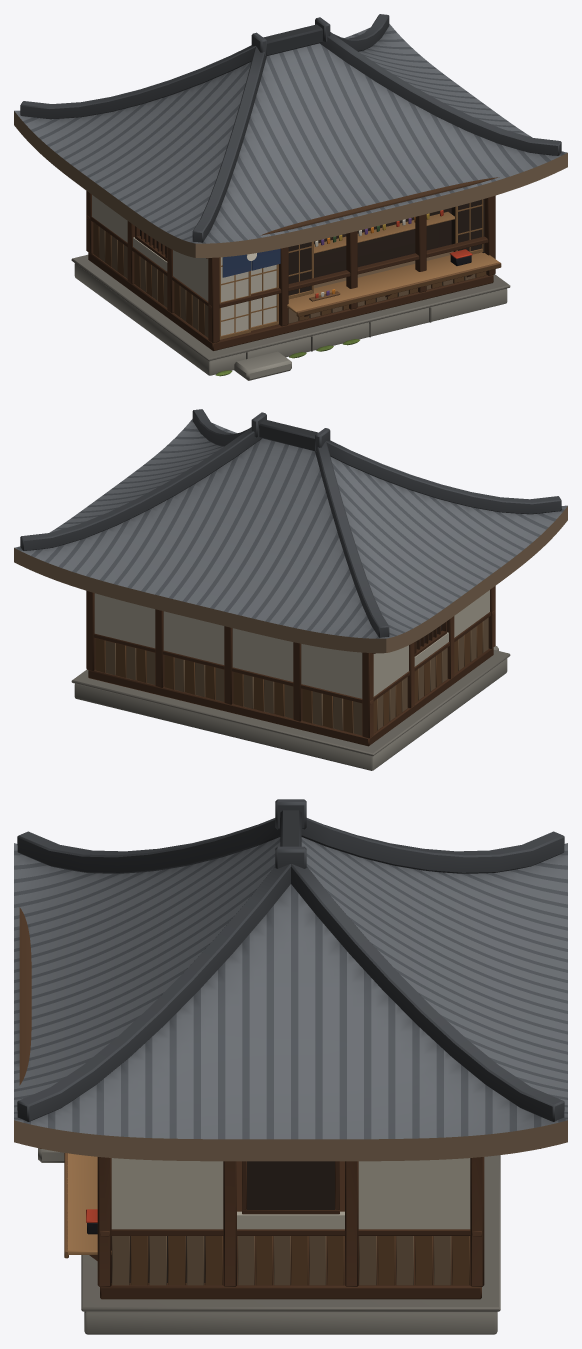
The model's file is shamusho.glb.
3 views of the same model, one above another, from view 1: azimuth 30°, elevation 25°; view 2: azimuth 150°, elevation 25°; view 3: azimuth 270°, elevation 25° (orthographic). The views are drawn at different scales.
Parts seen in each view (by area): view 1: shamusho; view 2: shamusho; view 3: shamusho.
Part boxes in pixels (x1,y1,x2,y2): shamusho: [14, 14, 567, 380]; shamusho: [14, 409, 567, 770]; shamusho: [14, 799, 567, 1334].
Size of what is drawn, in the model's own units: 8.1 by 5.47 by 6.84.
